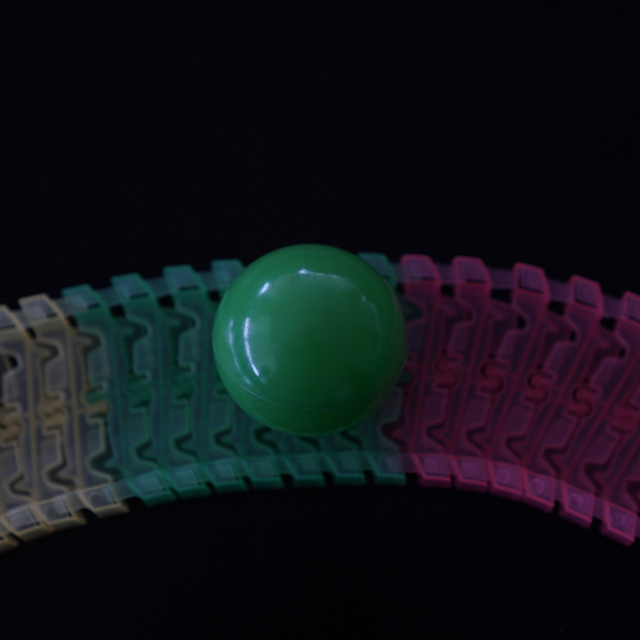Ball: (210, 244, 409, 439)
